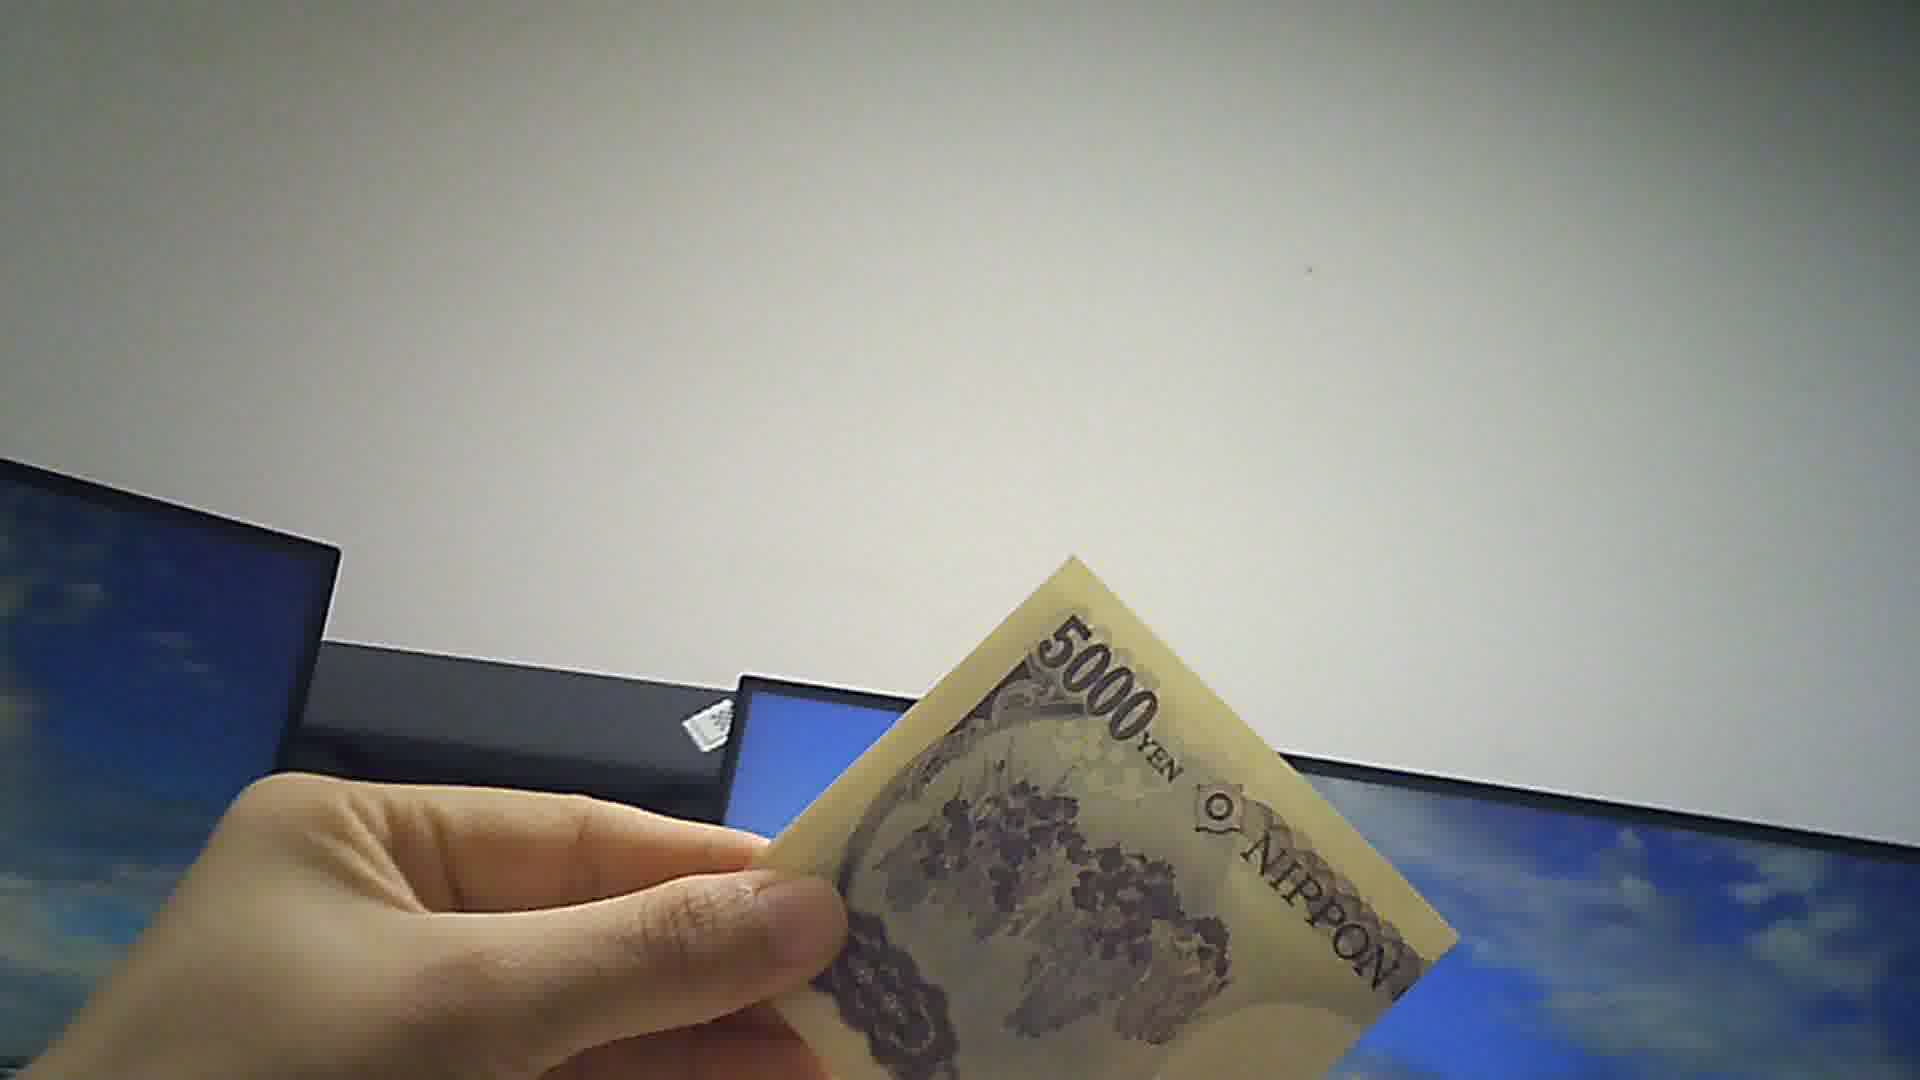5,000 Yen: (716, 538, 1448, 1079)
